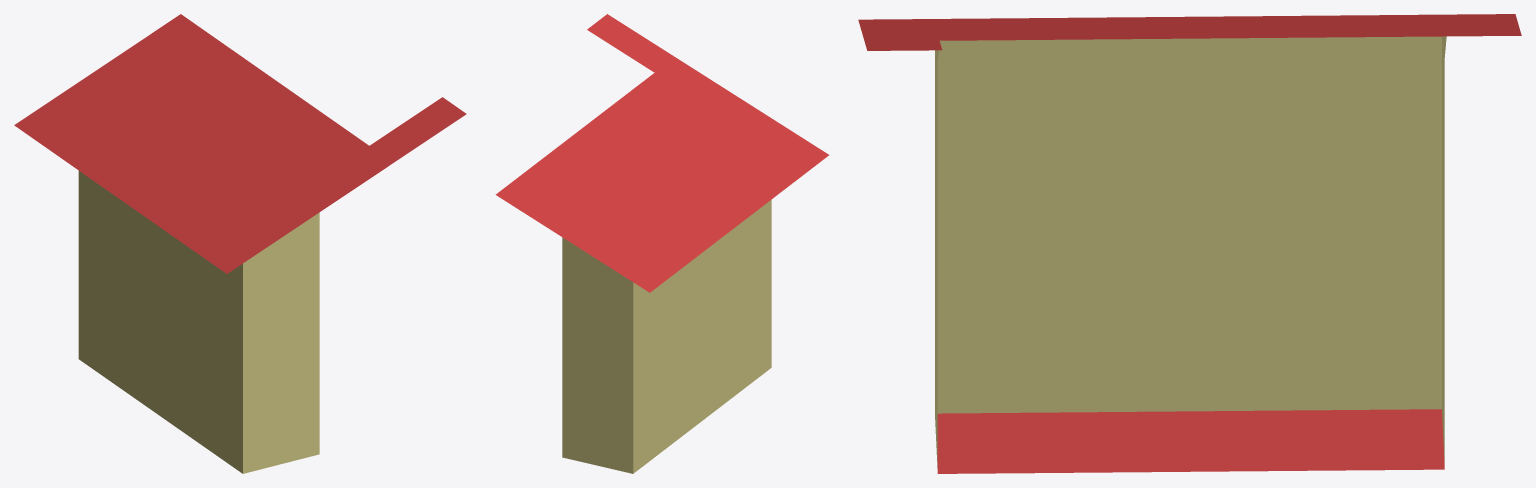
3 views of the same model, side by side, from view 1: azimuth 30°, elevation 25°; view 2: azimuth 150°, elevation 25°; view 3: azimuth 270°, elevation 25° (orthographic). The views are drawn at different scales.
Size of the model in its own units: 9.2 by 13.25 by 11.47.
